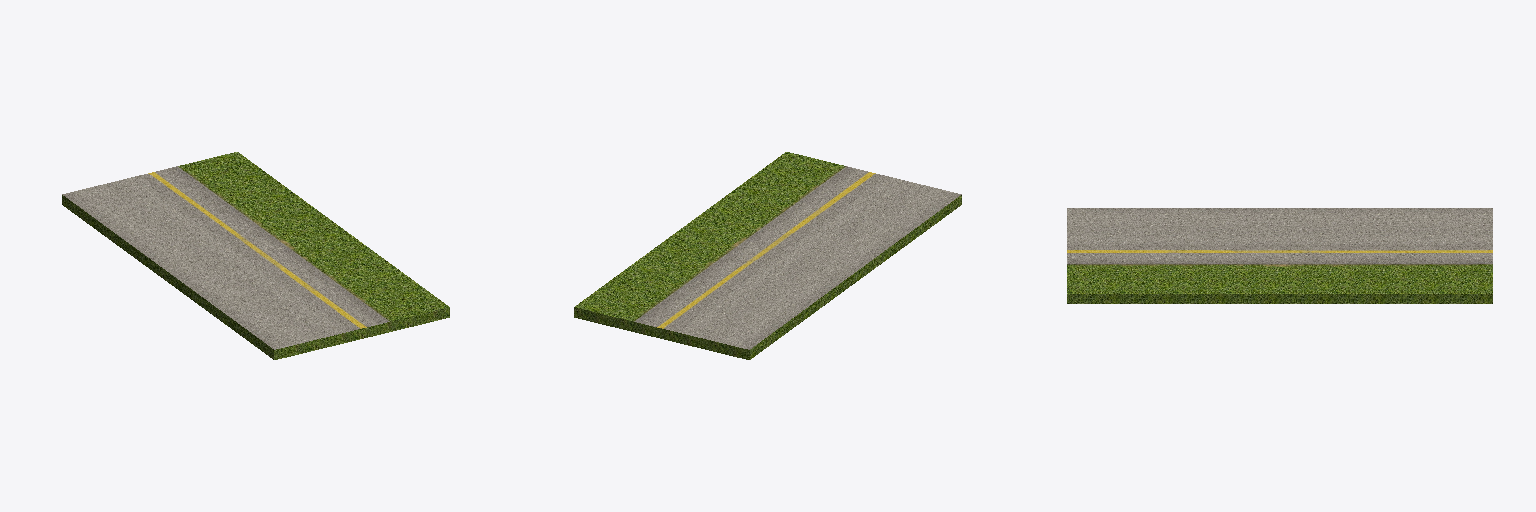
3 views of the same model, side by side, from view 1: azimuth 30°, elevation 25°; view 2: azimuth 150°, elevation 25°; view 3: azimuth 270°, elevation 25° (orthographic).
Visible parts, largest first — view 1: road; view 2: road; view 3: road.
Boxes of the visible parts, <box> form: road: <box>62,152,449,359</box>; road: <box>574,152,961,359</box>; road: <box>1067,208,1492,303</box>.
Bounding box in the file's own units: 4.16 × 0.2372 × 8.73.
1 materials, 1 textured.